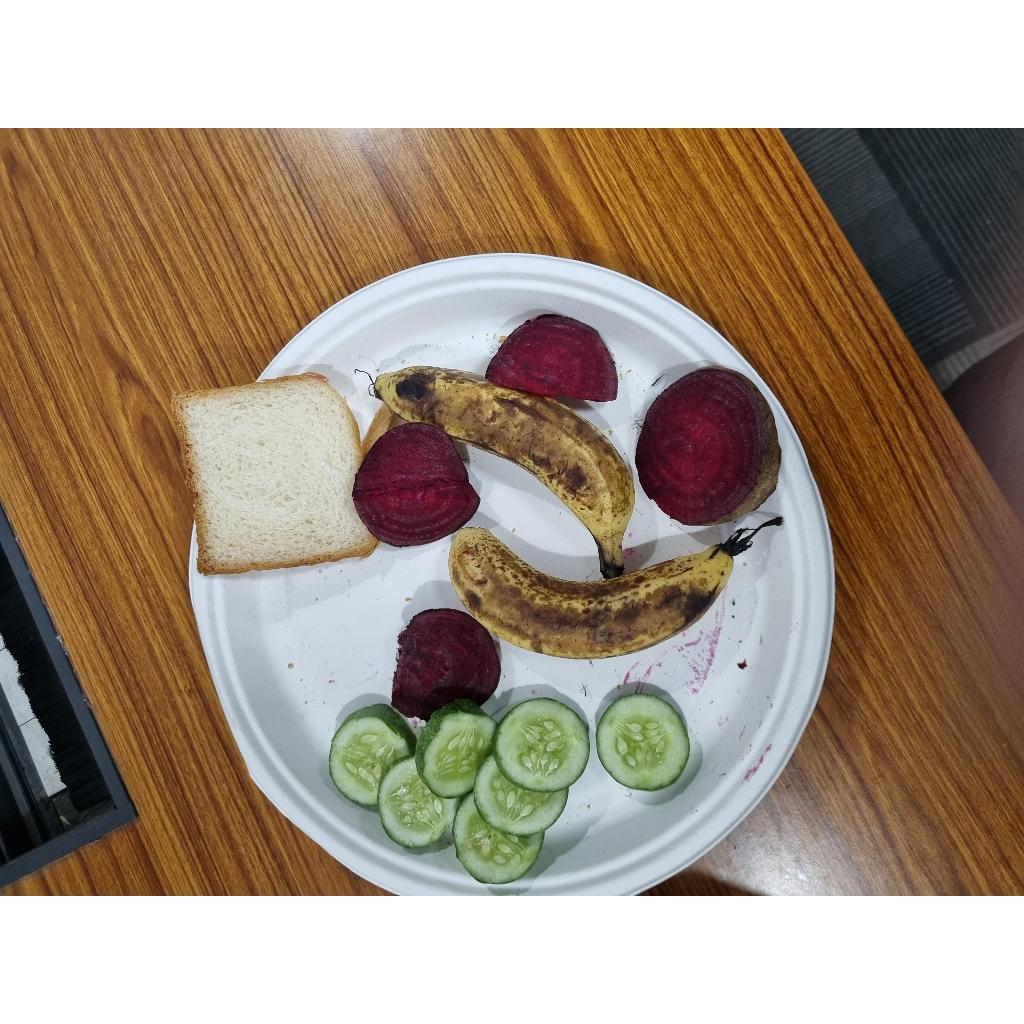banana: (375, 366, 634, 574), (449, 528, 733, 659)
